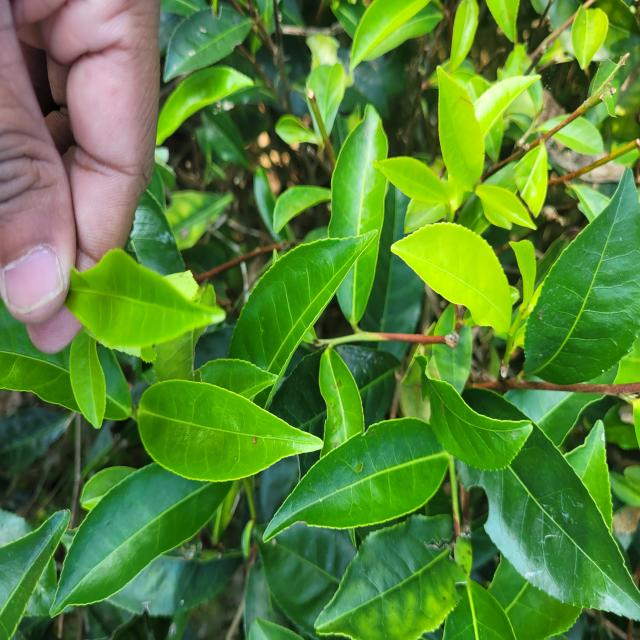Catagory A(1-2 days): (52, 237, 235, 358)
